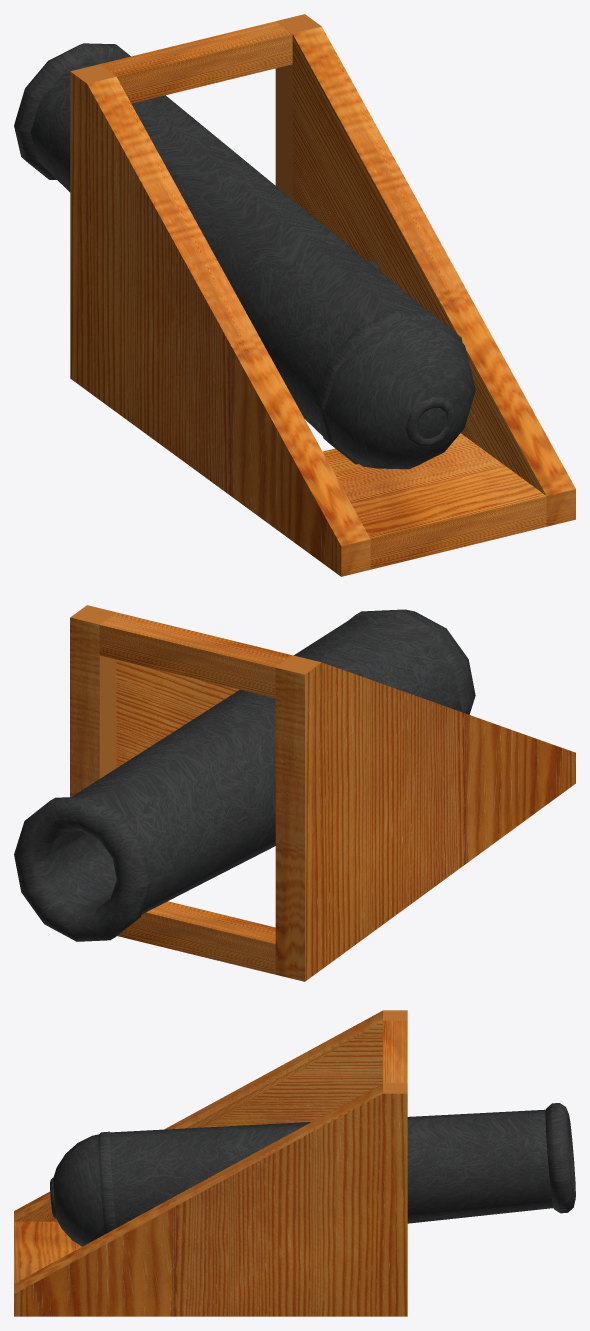
File: armata_zwykla.obj
The picture shows the model from 3 angles, top to bottom: view 1: azimuth 30°, elevation 25°; view 2: azimuth 150°, elevation 25°; view 3: azimuth 270°, elevation 25°; orthographic projection. The views are drawn at different scales.
Visible parts, largest first — view 1: g0; view 2: g0; view 3: g0.
Boxes of the visible parts, x1=… form: g0: x1=14, y1=14, x2=575, y2=576; g0: x1=14, y1=605, x2=575, y2=981; g0: x1=14, y1=1010, x2=575, y2=1316.
Size of the model in its own units: 1.6 by 2 by 4.57.
